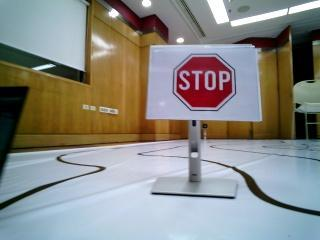stop: (156, 51, 246, 114)
